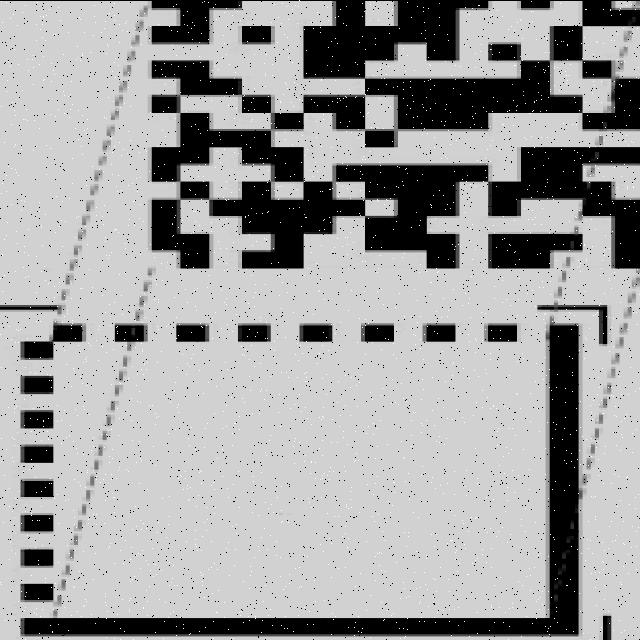datamatrix: (8, 313, 591, 640), (123, 0, 640, 277)
